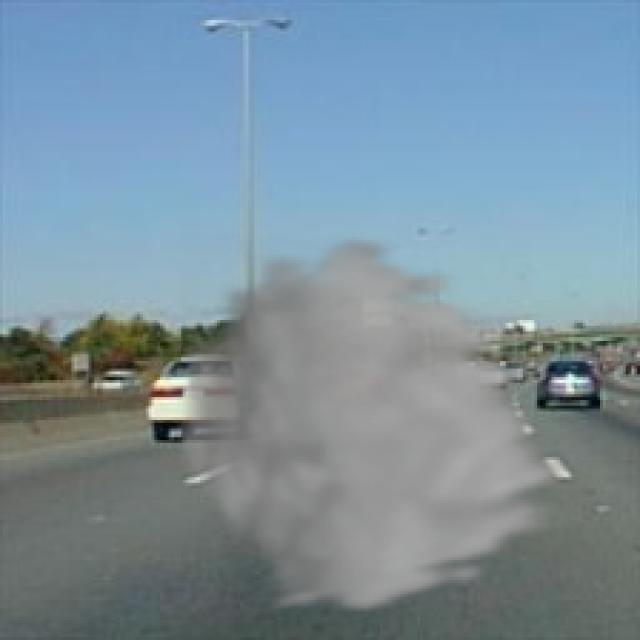Smoke: (168, 232, 586, 617)
